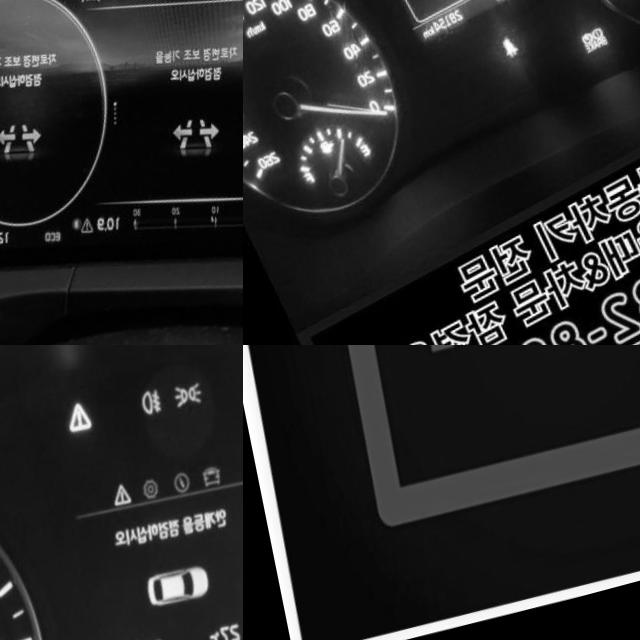Central Warning lamp: (55, 414, 86, 449), (60, 224, 77, 245), (144, 0, 162, 18)
FrontFogLight: (129, 405, 155, 437)
LaneCenteringOff: (69, 0, 93, 16)
SideLamp: (162, 399, 195, 432)
